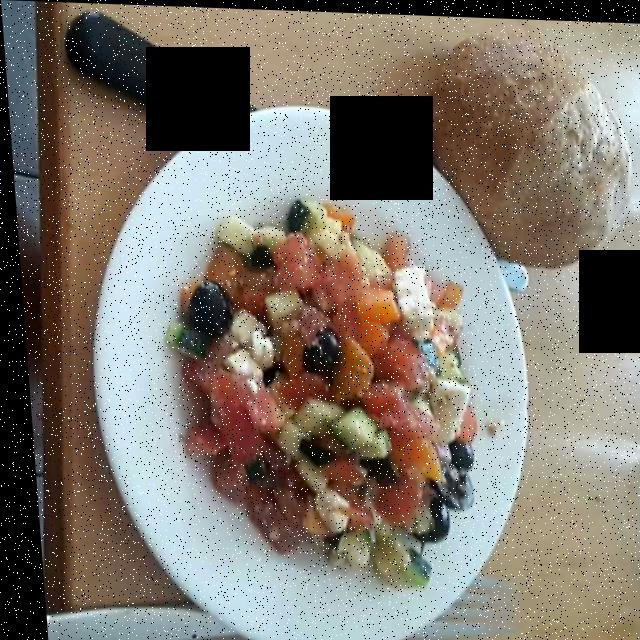greek-salad: (169, 201, 468, 583)
